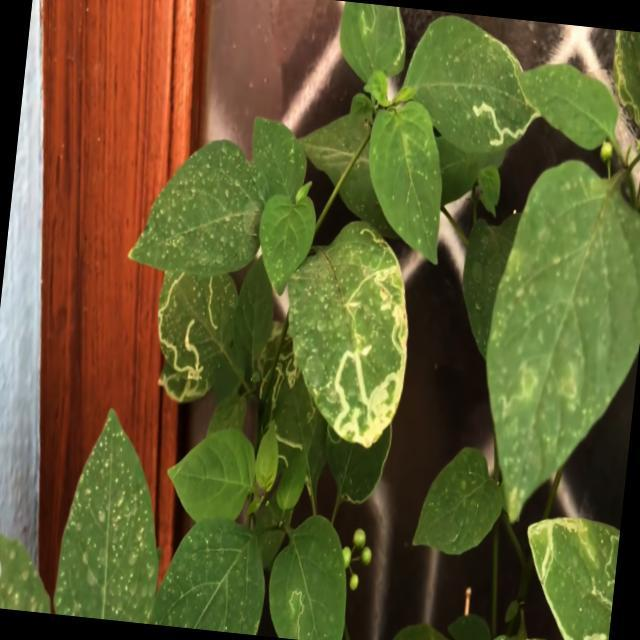Tomato target spot leaf: (268, 206, 422, 457), (398, 8, 554, 160), (146, 250, 246, 411), (511, 507, 620, 640), (262, 322, 341, 496), (262, 510, 356, 640), (332, 1, 412, 88)
